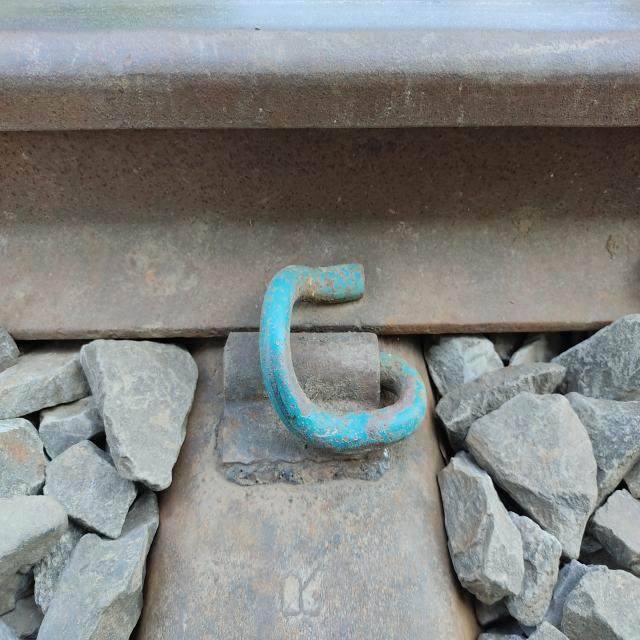No Fault: (221, 256, 427, 482)
